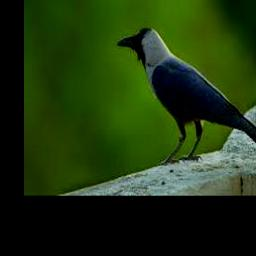Crow: (116, 28, 256, 163)
